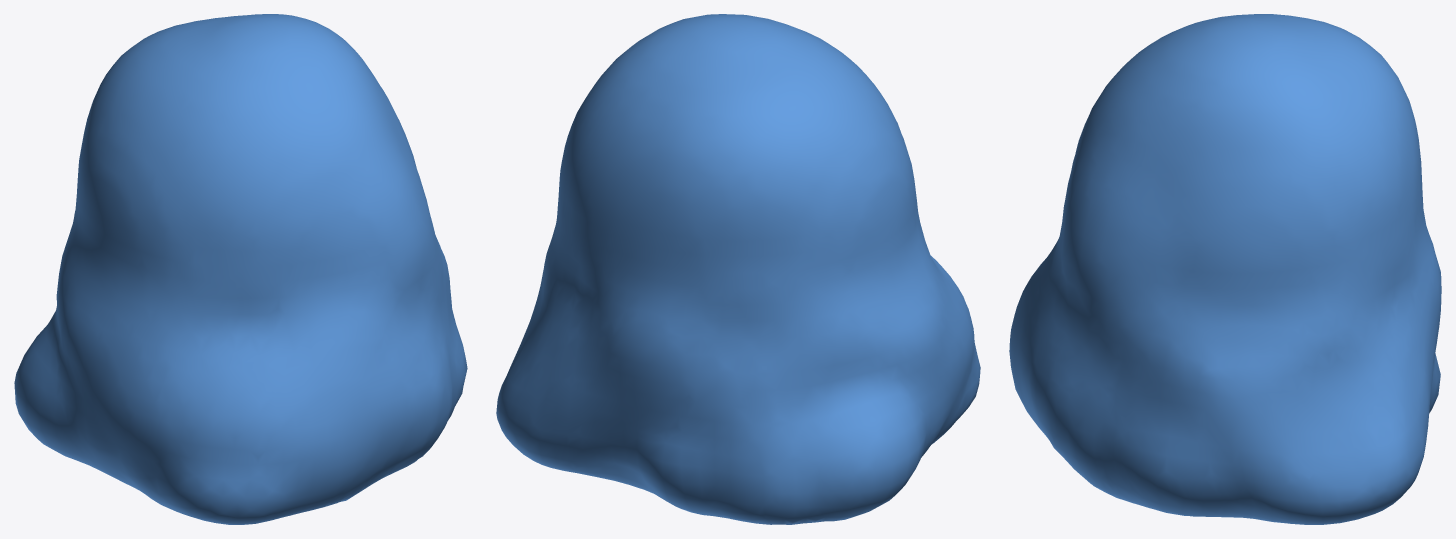
The model's file is slime_body.fbx.
3 renders of one model, left to right at view 1: azimuth 30°, elevation 25°; view 2: azimuth 150°, elevation 25°; view 3: azimuth 270°, elevation 25°, orthographic. The views are drawn at different scales.
Visible parts, largest first — view 1: Slime; view 2: Slime; view 3: Slime.
Boxes of the visible parts, left/top/right/bottom form: Slime: left=14, top=14, right=467, bottom=524; Slime: left=496, top=14, right=980, bottom=524; Slime: left=1009, top=14, right=1441, bottom=524.
Size of the model in its own units: 49.16 by 50.02 by 46.21.
